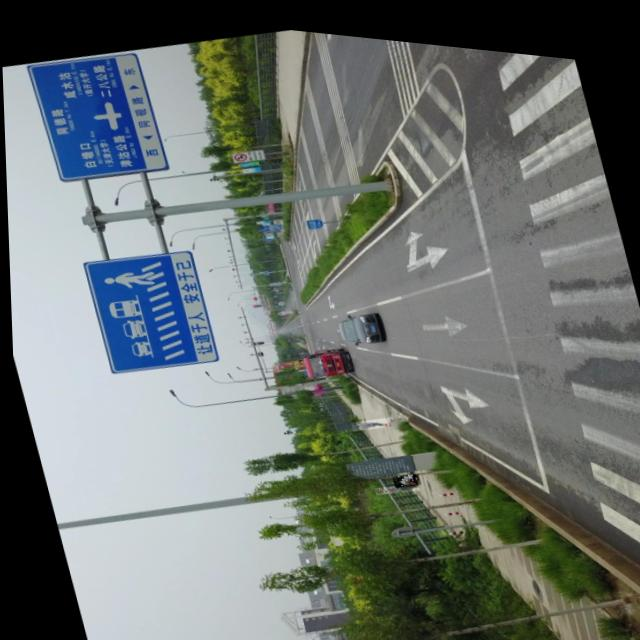Person: (370, 469, 416, 490), (347, 403, 388, 425), (388, 461, 418, 481)
